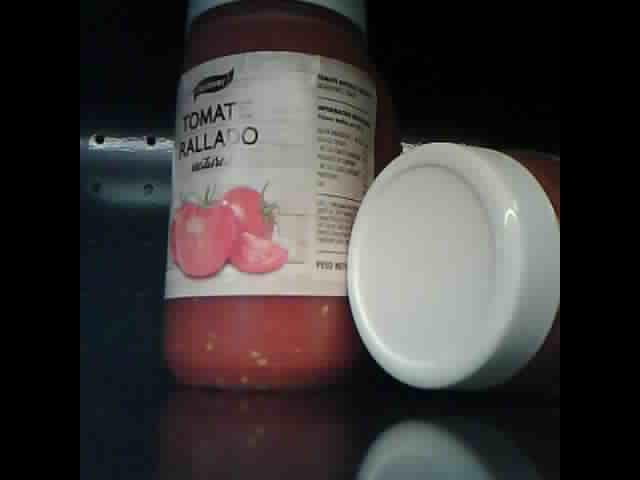tomate: (162, 4, 382, 389), (346, 142, 560, 388)
